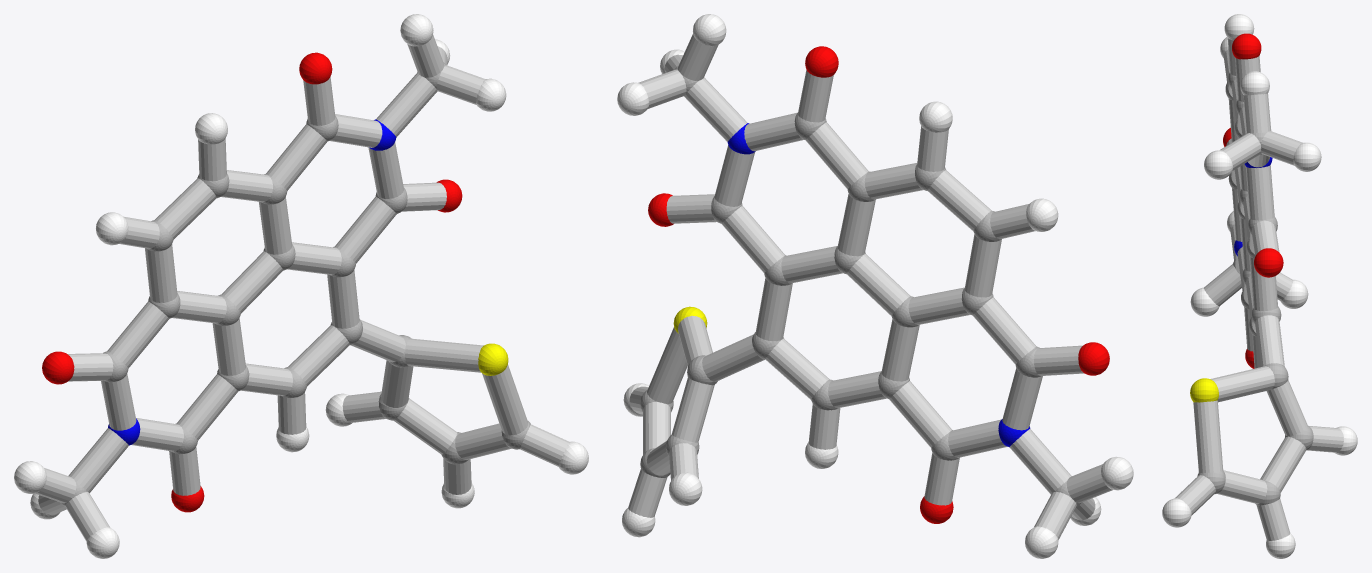
The model's file is Dimethyl_Naphthalene_Dicarboximide_Phi_30_Theta_230_Thiophene.glb.
3 views of the same model, side by side, from view 1: azimuth 30°, elevation 25°; view 2: azimuth 150°, elevation 25°; view 3: azimuth 270°, elevation 25° (orthographic). The views are drawn at different scales.
Parts seen in each view (by area): view 1: grp14119, grp7241, grp1, grp12309, grp13757, grp11585; view 2: grp14119, grp7241, grp1, grp12309, grp11585; view 3: grp14119, grp7241, grp1, grp12309, grp13757.
Boxes of the visible parts, bbox=[...] form: grp14119: bbox=[35, 35, 569, 541]; grp7241: bbox=[14, 14, 588, 558]; grp1: bbox=[60, 62, 530, 506]; grp12309: bbox=[42, 52, 462, 512]; grp13757: bbox=[478, 343, 508, 375]; grp11585: bbox=[108, 119, 396, 445]; grp14119: bbox=[628, 33, 1112, 539]; grp7241: bbox=[617, 14, 1133, 558]; grp1: bbox=[640, 66, 1080, 507]; grp12309: bbox=[648, 46, 1109, 523]; grp11585: bbox=[727, 123, 1030, 447]; grp14119: bbox=[1175, 38, 1343, 540]; grp7241: bbox=[1162, 14, 1357, 558]; grp1: bbox=[1197, 72, 1313, 505]; grp12309: bbox=[1223, 33, 1283, 368]; grp13757: bbox=[1190, 378, 1218, 402].
Size of the model in its own units: 11.16 by 10.29 by 3.96.
